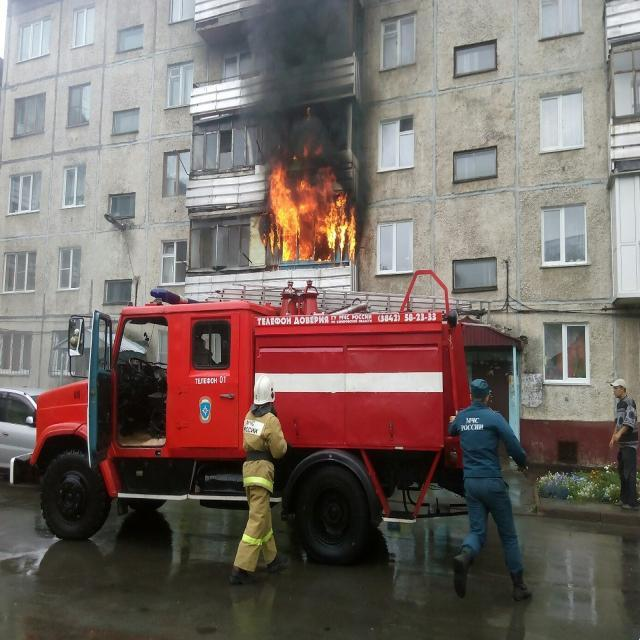Fire: (269, 165, 356, 264)
Smoke: (246, 0, 365, 184)
